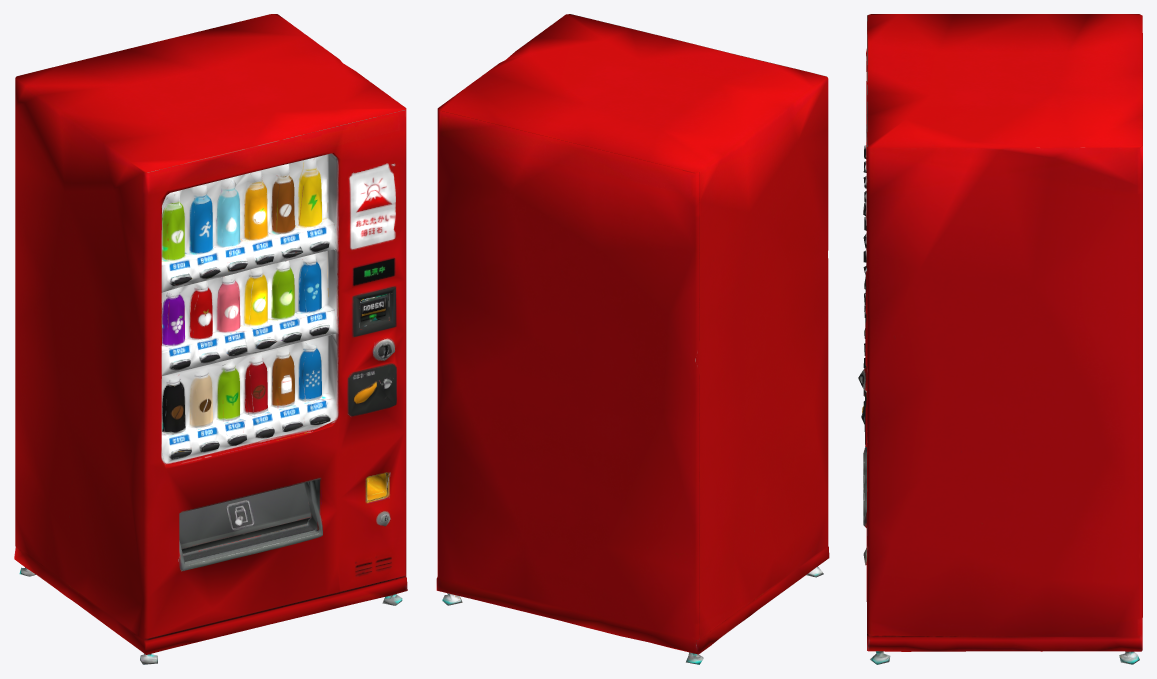
File: vending-machine.glb
3 views of the same model, side by side, from view 1: azimuth 30°, elevation 25°; view 2: azimuth 150°, elevation 25°; view 3: azimuth 270°, elevation 25° (orthographic). The views are drawn at different scales.
Visible parts, largest first — view 1: Mesh1.0; view 2: Mesh1.0; view 3: Mesh1.0.
Part boxes in pixels (bbox=[...]): Mesh1.0: bbox=[14, 14, 407, 664]; Mesh1.0: bbox=[436, 14, 829, 664]; Mesh1.0: bbox=[858, 14, 1142, 664].
Bounding box in the file's own units: 1.06 × 1.91 × 0.9531.
1 material, 1 textured.
